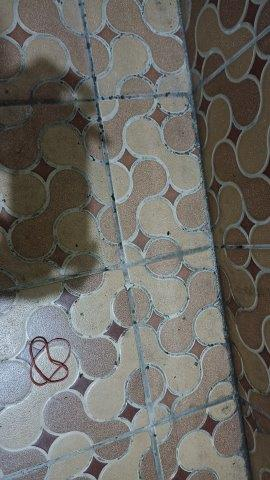karet: (29, 336, 71, 386)
